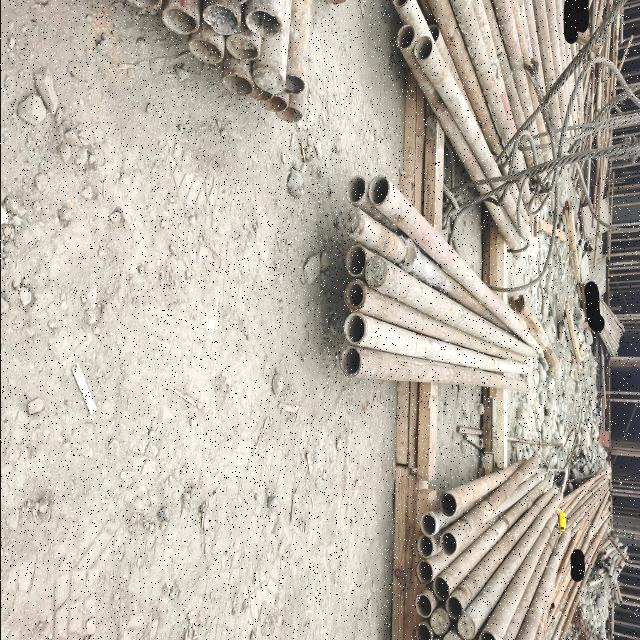pipe: (244, 7, 284, 41), (202, 2, 242, 36), (160, 6, 200, 36), (187, 37, 224, 65), (253, 64, 285, 96), (220, 73, 253, 103), (226, 34, 258, 64), (366, 172, 390, 208), (341, 314, 366, 346), (338, 344, 362, 377), (344, 244, 366, 280), (342, 279, 366, 311), (365, 255, 387, 289), (344, 173, 366, 205), (341, 206, 362, 239), (274, 106, 304, 128), (257, 94, 288, 115), (392, 22, 413, 50), (283, 72, 307, 96), (414, 35, 434, 61), (248, 82, 272, 103), (413, 560, 432, 586), (438, 531, 456, 557), (457, 614, 475, 639), (438, 493, 456, 518), (432, 576, 449, 602), (444, 596, 462, 620), (414, 534, 432, 558), (418, 512, 435, 536), (431, 608, 446, 635), (428, 18, 442, 46), (414, 593, 430, 617), (414, 622, 430, 640), (388, 0, 413, 10), (443, 630, 459, 640), (473, 632, 497, 638)
